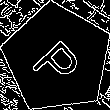P_NE: (26, 28, 88, 89)
